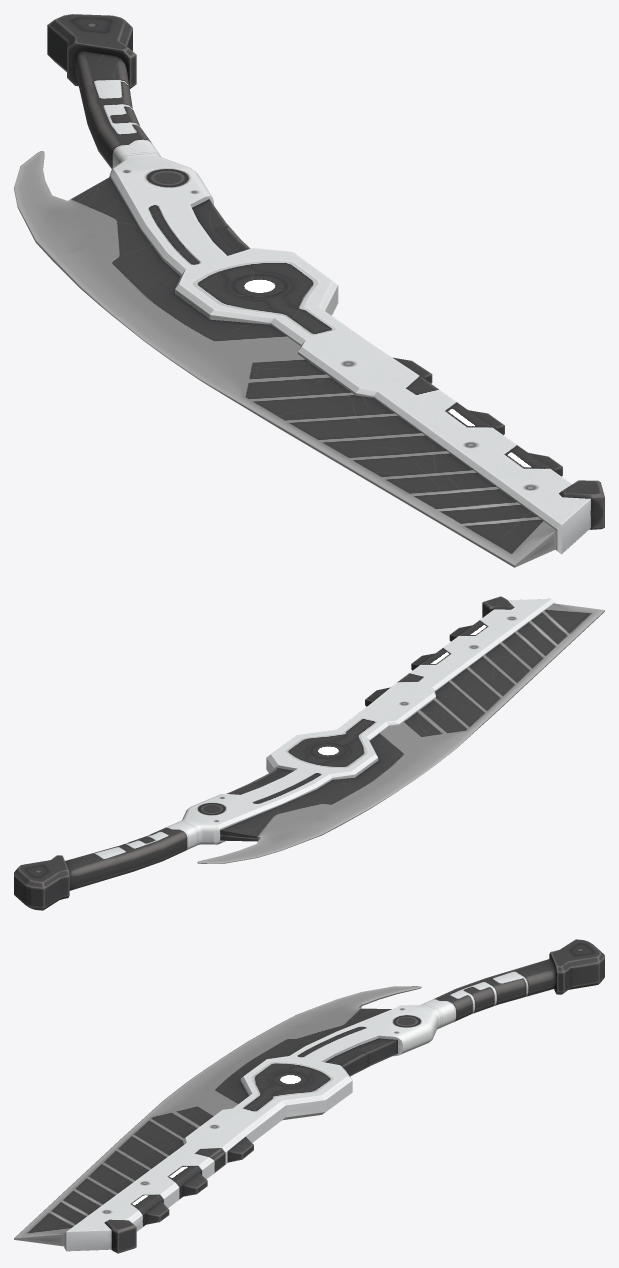
The model's file is MeleeMachete01_1.FBX.
3 renders of one model, top to bottom at view 1: azimuth 30°, elevation 25°; view 2: azimuth 150°, elevation 25°; view 3: azimuth 330°, elevation 25°, orthographic. The views are drawn at different scales.
Visible parts, largest first — view 1: MeleeMachete01_1; view 2: MeleeMachete01_1; view 3: MeleeMachete01_1.
Part boxes in pixels (left/top/right/bottom): MeleeMachete01_1: left=14, top=14, right=604, bottom=567; MeleeMachete01_1: left=14, top=596, right=604, bottom=910; MeleeMachete01_1: left=14, top=939, right=604, bottom=1253.
Size of what is drawn, in the model's own units: 0.241 by 0.0331 by 0.9255.
